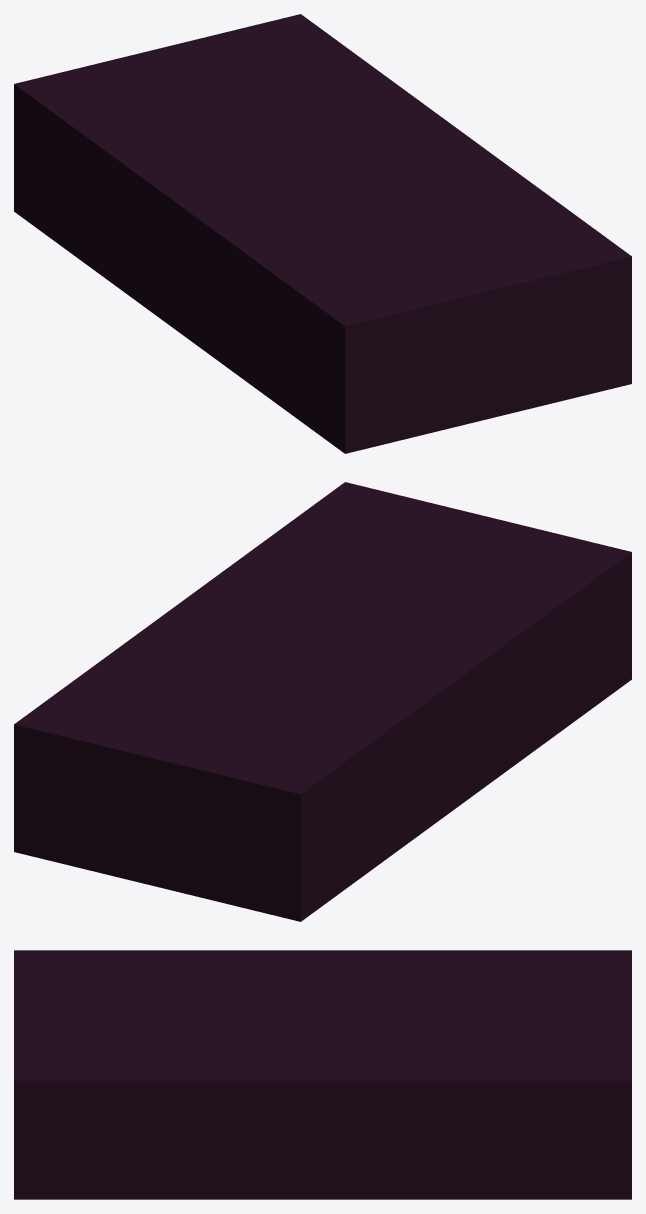
File: TestVenueEncore.obj
3 views of the same model, one above another, from view 1: azimuth 30°, elevation 25°; view 2: azimuth 150°, elevation 25°; view 3: azimuth 270°, elevation 25° (orthographic). The views are drawn at different scales.
Parts seen in each view (by area): view 1: Building; view 2: Building; view 3: Building.
Boxes of the visible parts, left/top/right/bottom form: Building: left=14, top=14, right=631, bottom=453; Building: left=14, top=482, right=631, bottom=921; Building: left=14, top=950, right=631, bottom=1199.
Bounding box in the file's own units: 43.42 × 18.45 × 86.83.
